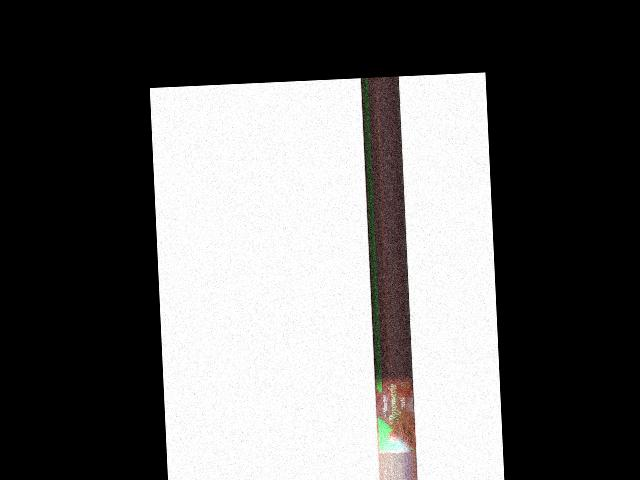chocolate: (375, 373, 416, 452)
